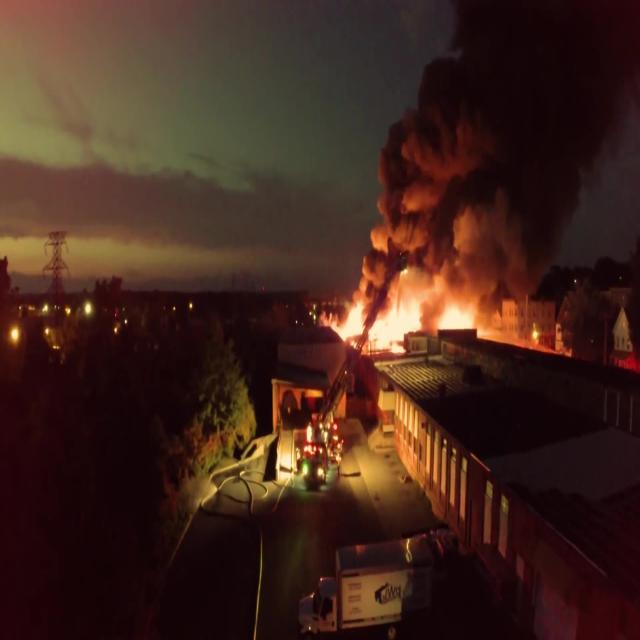Fire: (341, 301, 482, 359)
Smoke: (345, 2, 640, 320)
